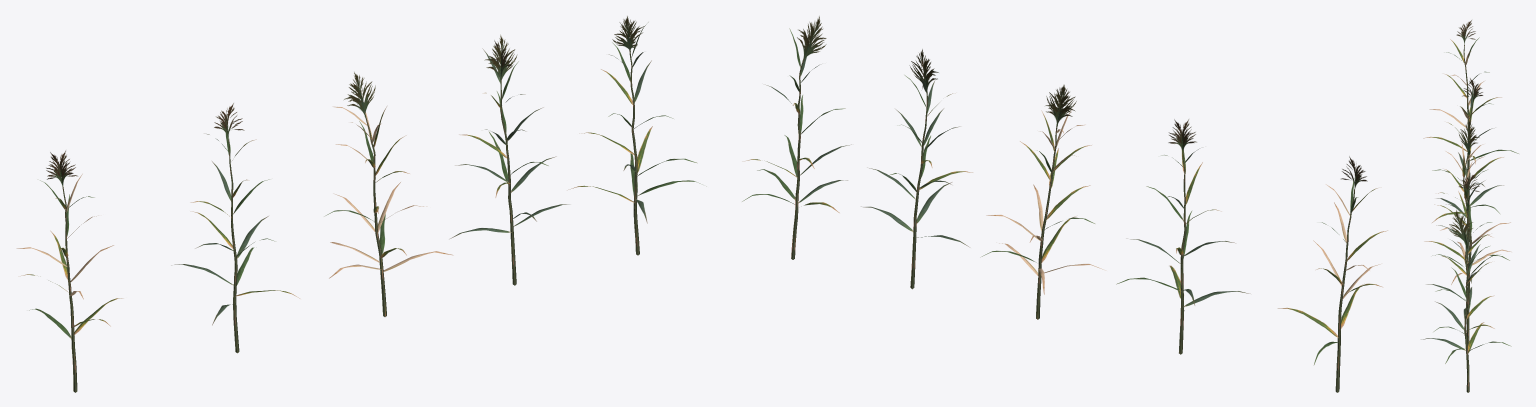
The model's file is reeds.glb.
3 views of the same model, side by side, from view 1: azimuth 30°, elevation 25°; view 2: azimuth 150°, elevation 25°; view 3: azimuth 270°, elevation 25° (orthographic). The views are drawn at different scales.
Visible parts, largest first — view 1: reeds; view 2: reeds; view 3: reeds.
Boxes of the visible parts, x1,y1,x2,y2 form: reeds: (16,16,706,392); reeds: (742,16,1387,392); reeds: (1421,20,1518,392).
Size of the model in its own units: 5.5 by 1.98 by 1.04.
Materials: 2 (2 with a texture image).
